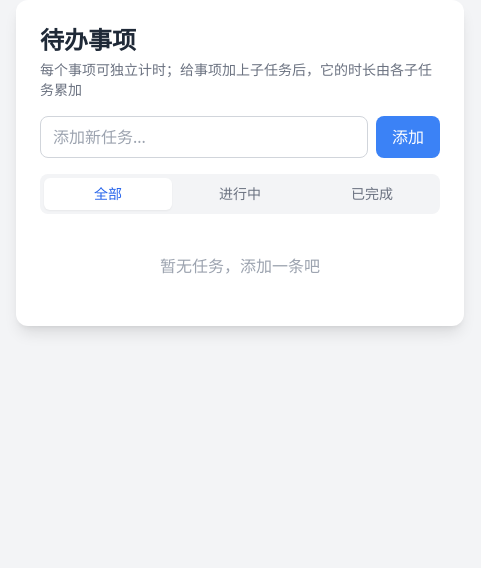
Test: 加了子任务的事项变成合集，自身不再有计时功能
Type "408" into the field with placeholder "添加新任务..." at (204, 137), box [40, 116, 368, 158]
Then press Enter
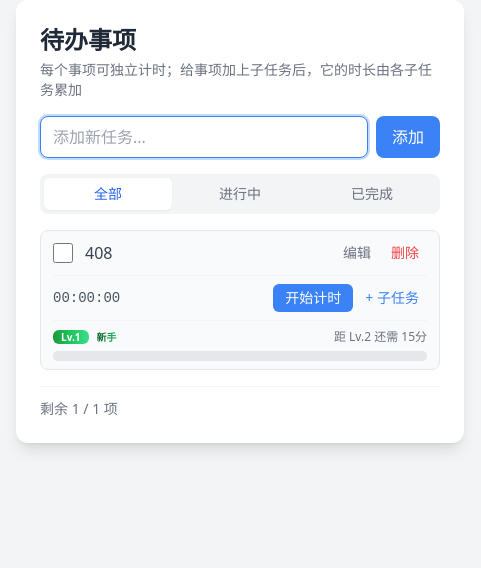
Check: the button "开始计时" is shown, box [273, 284, 353, 312]
Click the button with aria-label "添加子任务" at (392, 298), box [357, 284, 427, 312]
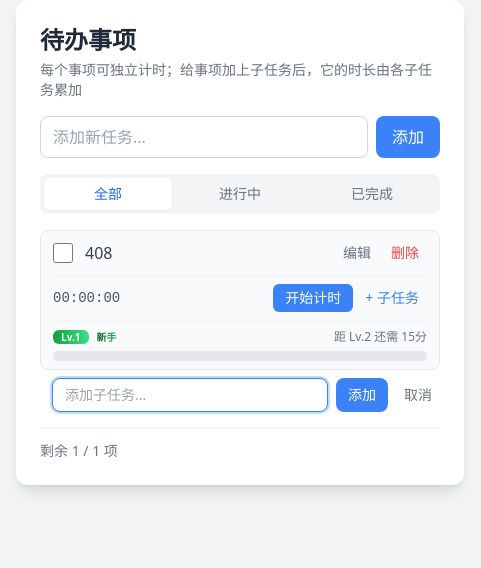
Type "操作系统" into the field with placeholder "添加子任务..." at (190, 395), box [52, 378, 328, 412]
Then press Enter
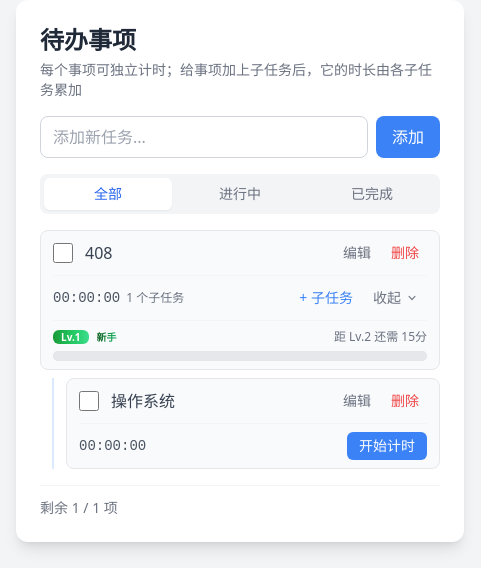
Check: the text "操作系统" is shown, box [111, 390, 175, 412]
Check: the number of buttons "开始计时" is 1, box [347, 432, 427, 460]
Check: the text "1 个子任务" is shown, box [126, 290, 184, 306]
